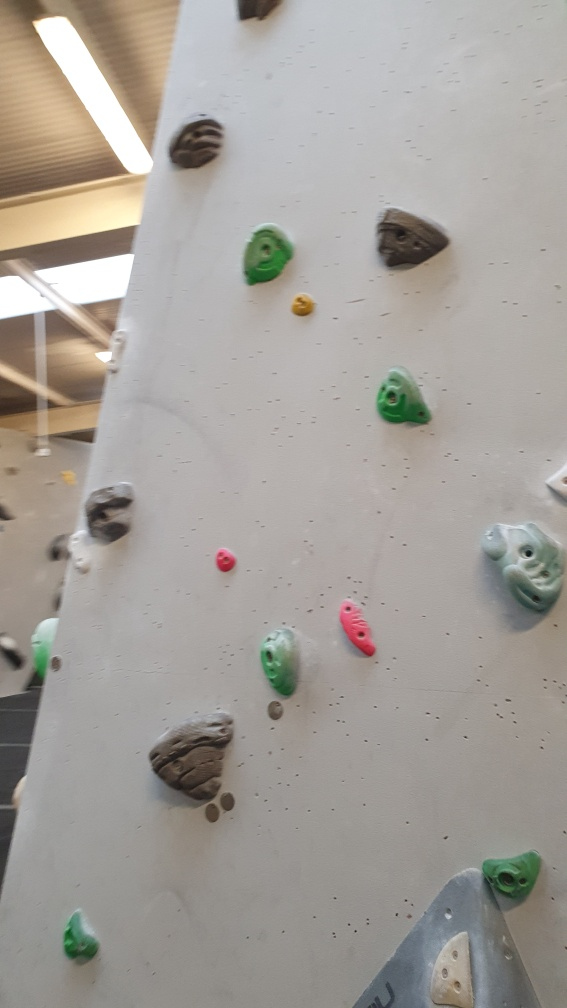Crimp: (334, 595, 377, 660), (63, 529, 96, 578), (109, 329, 129, 373)
Hand Start: (214, 788, 239, 815), (264, 697, 287, 723), (200, 802, 224, 823)
Jug: (476, 521, 566, 614), (150, 707, 233, 803), (374, 203, 454, 273), (375, 362, 440, 428), (165, 111, 228, 170), (241, 225, 299, 289), (257, 622, 305, 698), (84, 479, 135, 545)
